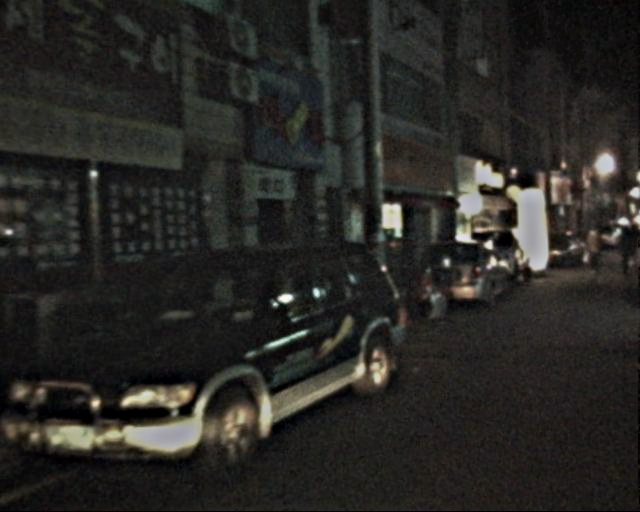person: (582, 223, 614, 281), (617, 222, 640, 278)
